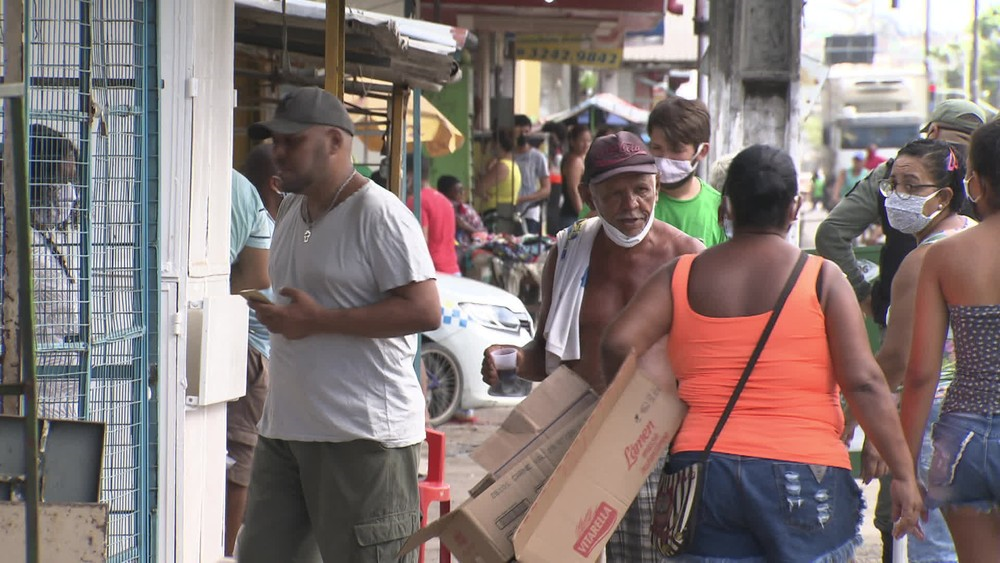mask_weared_incorrect: (575, 168, 665, 251)
